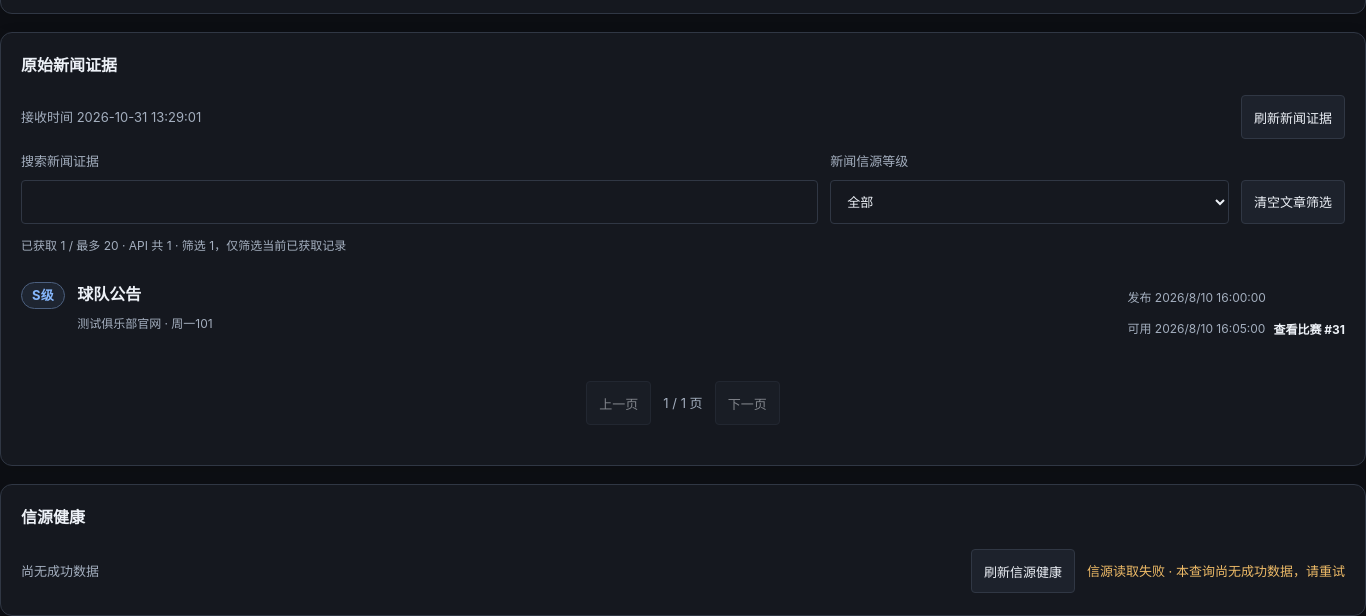
NewsIntelligencePage › one failing resource leaves other news evidence usable and retries only itself
(page scrolled)
Expected: the link "球队公告" is shown, [77, 284, 141, 304]
Expected: the text "信源读取失败 · 本查询尚无成功数据，请重试" is shown, [1087, 560, 1345, 582]
Click the button "刷新信源健康" at (1023, 571), box [971, 549, 1075, 593]
(page scrolled)
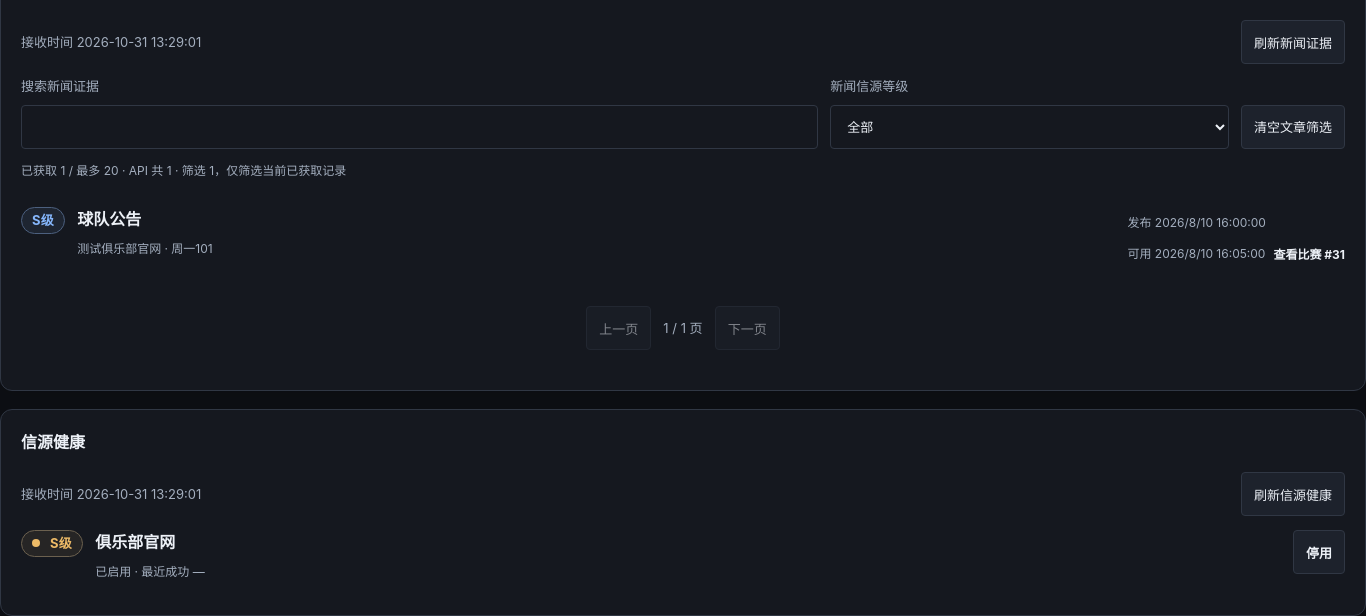
Result: the button "停用" is shown at [1293, 530, 1345, 574]
